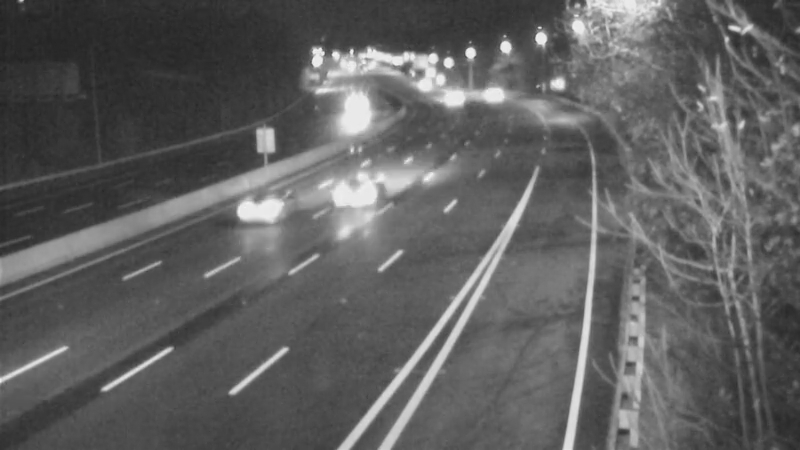vehicle: (318, 156, 398, 236), (208, 166, 288, 246), (397, 62, 447, 112), (465, 70, 515, 120), (430, 71, 480, 121), (331, 79, 381, 129)
